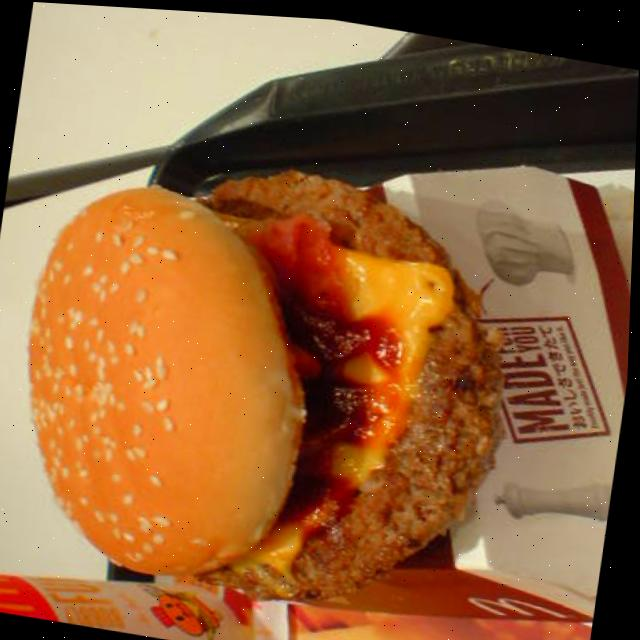汉堡快餐: (0, 120, 524, 620)
